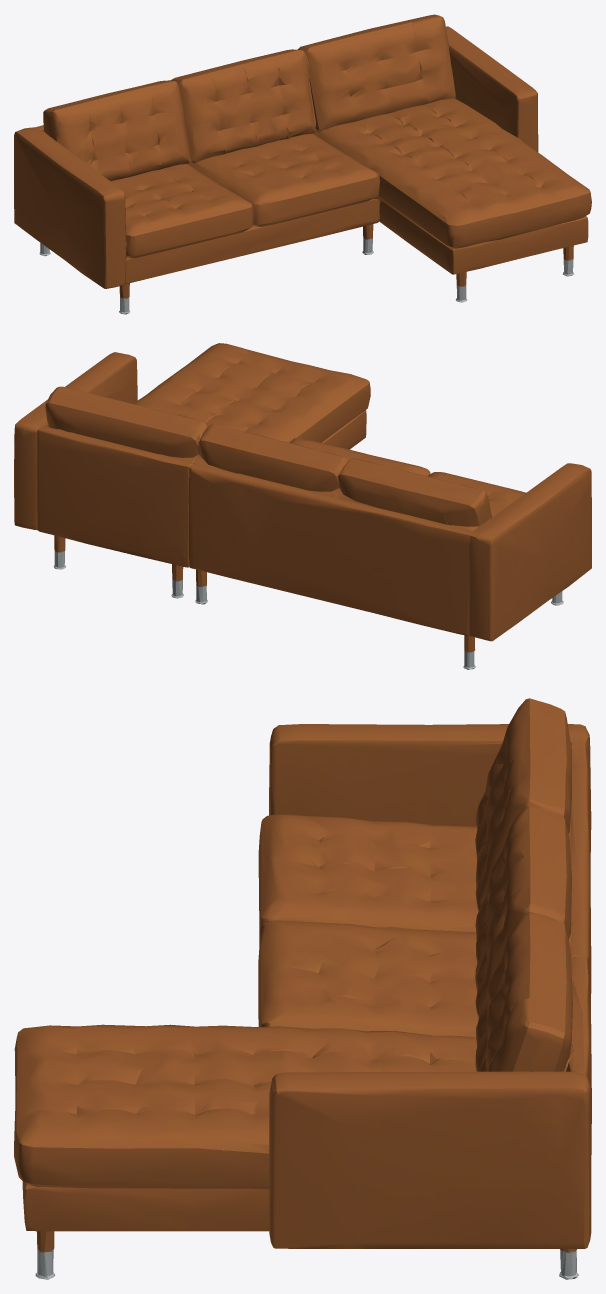
The model's file is 12 - LANDSKRONA - 三人座沙發，含躺椅GrannBomstad 金棕色金屬 IKEA 線上購物.glb.
The picture shows the model from 3 angles, top to bottom: view 1: azimuth 30°, elevation 25°; view 2: azimuth 150°, elevation 25°; view 3: azimuth 270°, elevation 25°; orthographic projection. The views are drawn at different scales.
Visible parts, largest first — view 1: ProcessedMeshNode; view 2: ProcessedMeshNode; view 3: ProcessedMeshNode.
Part boxes in pixels (left/top/right/bottom): ProcessedMeshNode: left=14, top=14, right=591, bottom=314; ProcessedMeshNode: left=14, top=343, right=591, bottom=669; ProcessedMeshNode: left=14, top=698, right=591, bottom=1279.
Size of the model in its own units: 2.42 by 0.809 by 1.59.
1 material, 1 textured.
